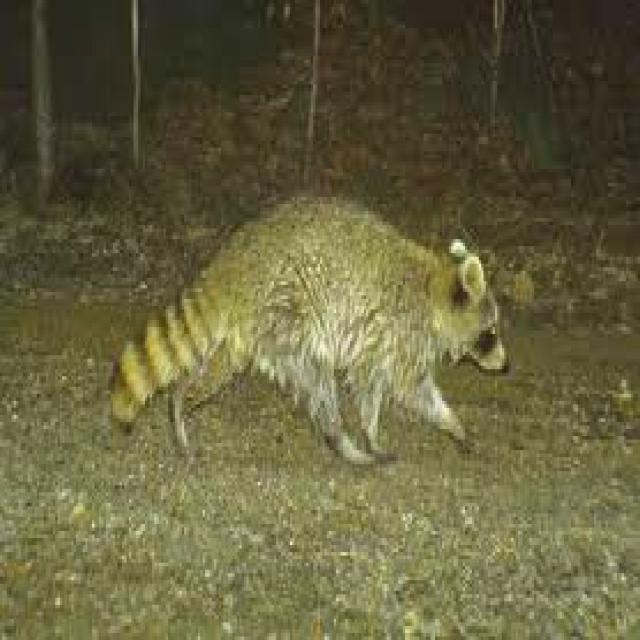raccoon: (111, 197, 504, 461)
